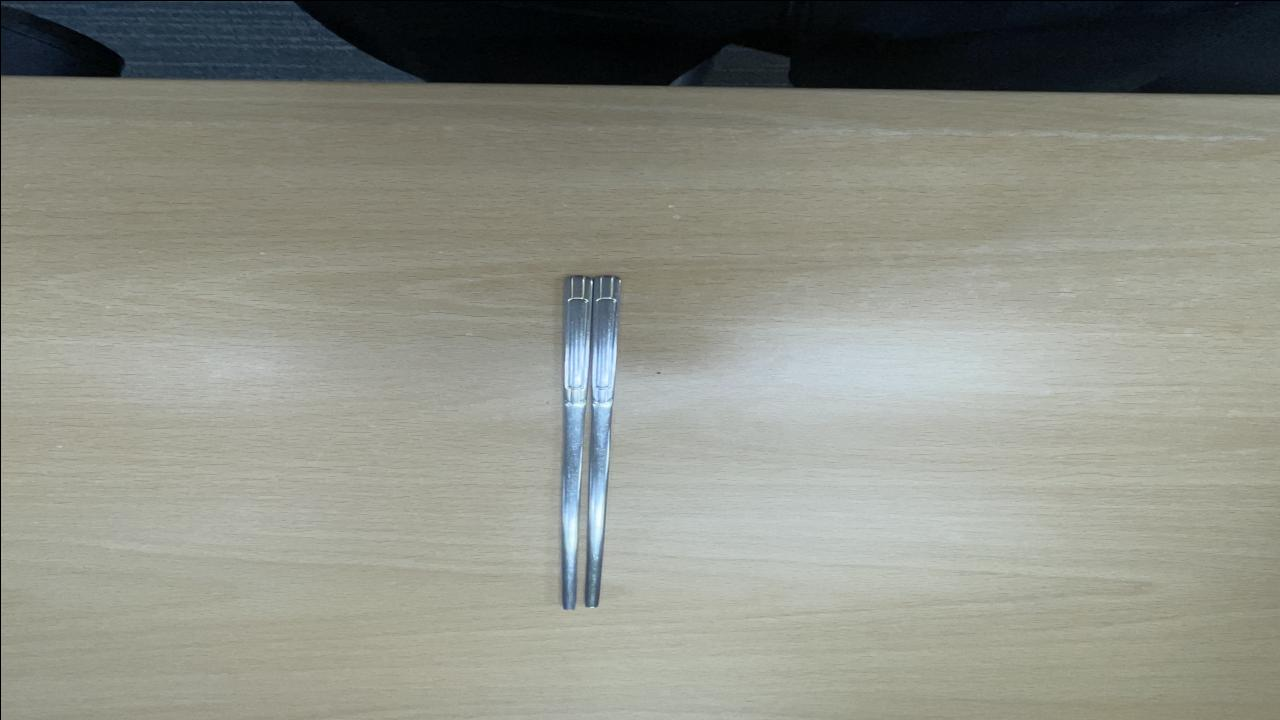chopstick: (548, 271, 628, 611)
